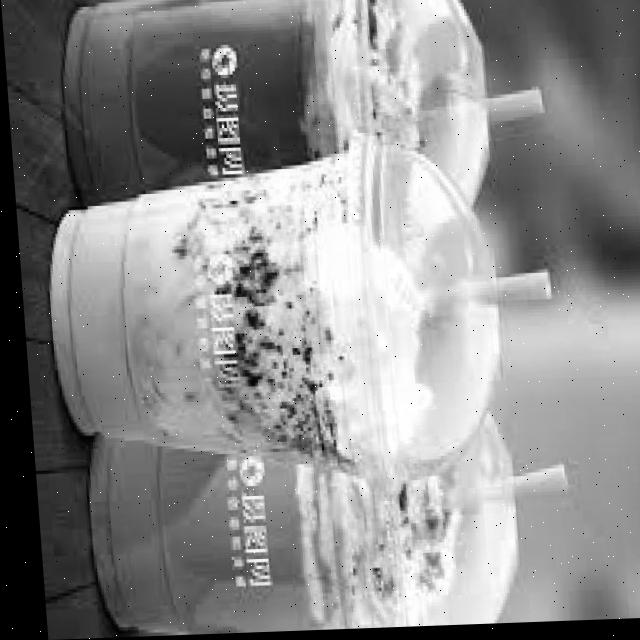cup: (47, 144, 394, 463), (82, 441, 435, 628), (62, 0, 368, 206)
